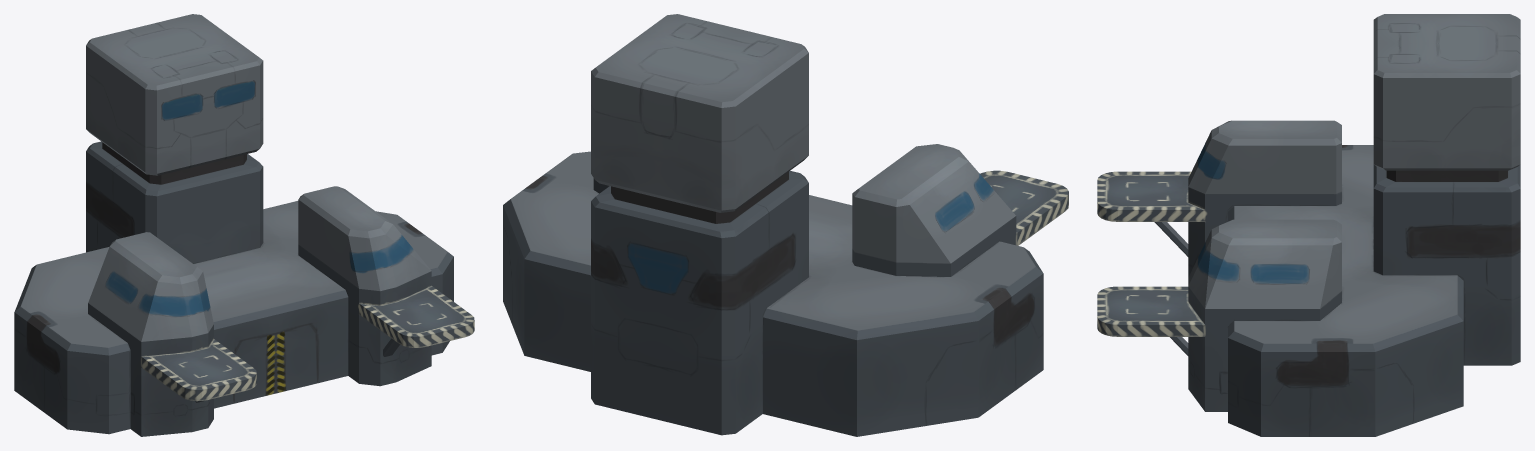
Rendered from weapons_base_v2.fbx.
3 views of the same model, side by side, from view 1: azimuth 30°, elevation 25°; view 2: azimuth 150°, elevation 25°; view 3: azimuth 270°, elevation 25° (orthographic). The views are drawn at different scales.
Parts seen in each view (by area): view 1: Cube.002, Cube, Cube.007, Cube.001, Cube.006, Cube.005; view 2: Cube.002, Cube, Cube.007, Cube.005; view 3: Cube.002, Cube, Cube.001, Cube.007, Cube.006, Cube.005.
Part boxes in pixels (box(x1,y1,x2,y2)): Cube.002: box(86, 14, 263, 263); Cube: box(14, 201, 453, 434); Cube.007: box(88, 232, 213, 436); Cube.001: box(298, 186, 431, 386); Cube.006: box(359, 285, 474, 347); Cube.005: box(141, 339, 256, 401); Cube.002: box(591, 14, 808, 435); Cube: box(503, 151, 1043, 436); Cube.007: box(852, 144, 1016, 276); Cube.005: box(980, 170, 1068, 245); Cube.002: box(1373, 14, 1520, 365); Cube: box(1228, 145, 1463, 436); Cube.001: box(1188, 219, 1341, 411); Cube.007: box(1188, 120, 1341, 276); Cube.006: box(1097, 286, 1204, 336); Cube.005: box(1097, 171, 1204, 221).
Size of the model in its own units: 970 by 851 by 647.
